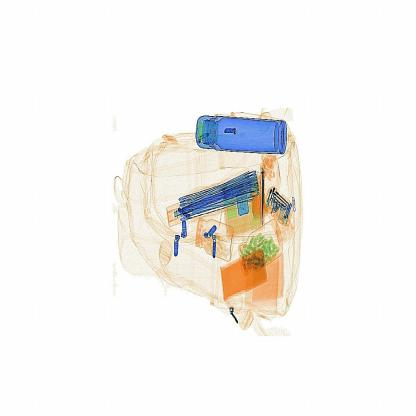wrench: (253, 165, 271, 233)
